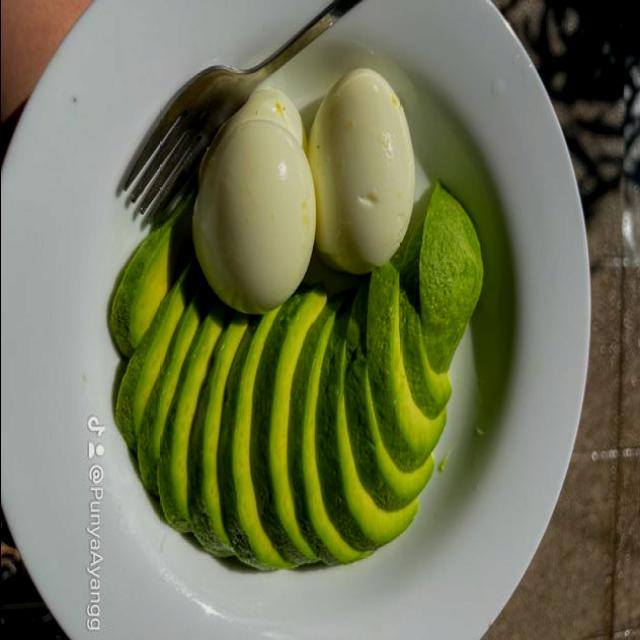telur rebus: (187, 82, 319, 320), (308, 66, 414, 275)
